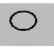no answer: (6, 6, 40, 34)
